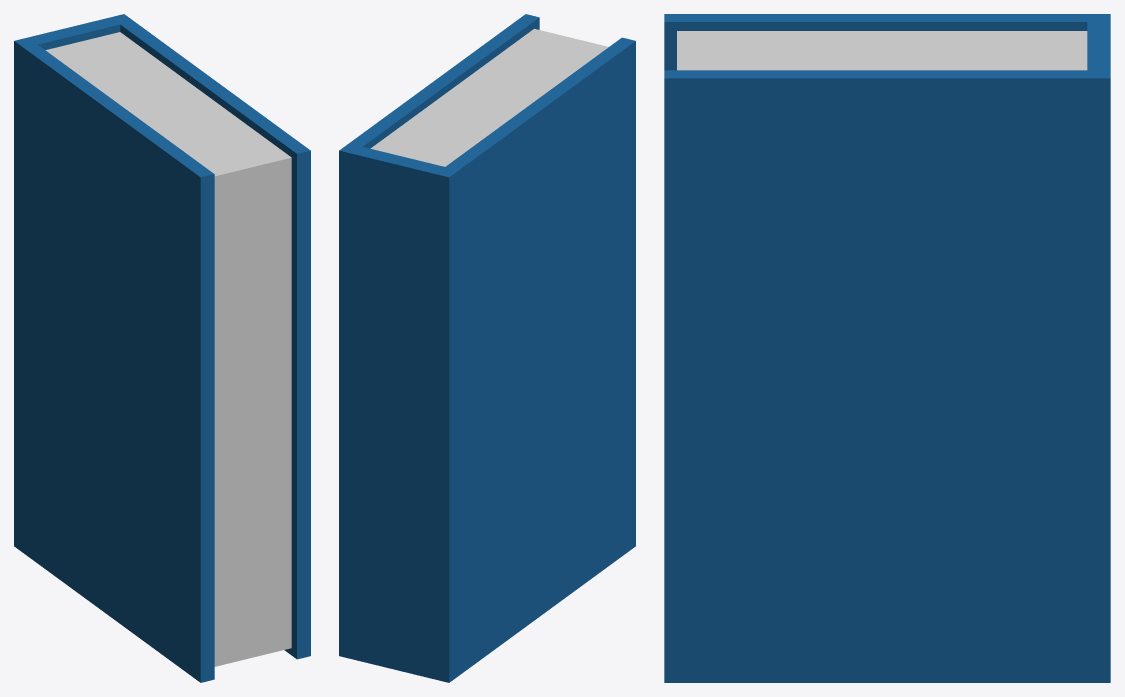
File: book_1.fbx
3 renders of one model, left to right at view 1: azimuth 30°, elevation 25°; view 2: azimuth 150°, elevation 25°; view 3: azimuth 270°, elevation 25°, orthographic. The views are drawn at different scales.
Visible parts, largest first — view 1: book_1; view 2: book_1; view 3: book_1.
Boxes of the visible parts, x1,y1,x2,y2 form: book_1: [14, 14, 310, 682]; book_1: [339, 14, 635, 682]; book_1: [664, 14, 1110, 682].
Bounding box in the file's own units: 8.65 × 37.95 × 25.39.
